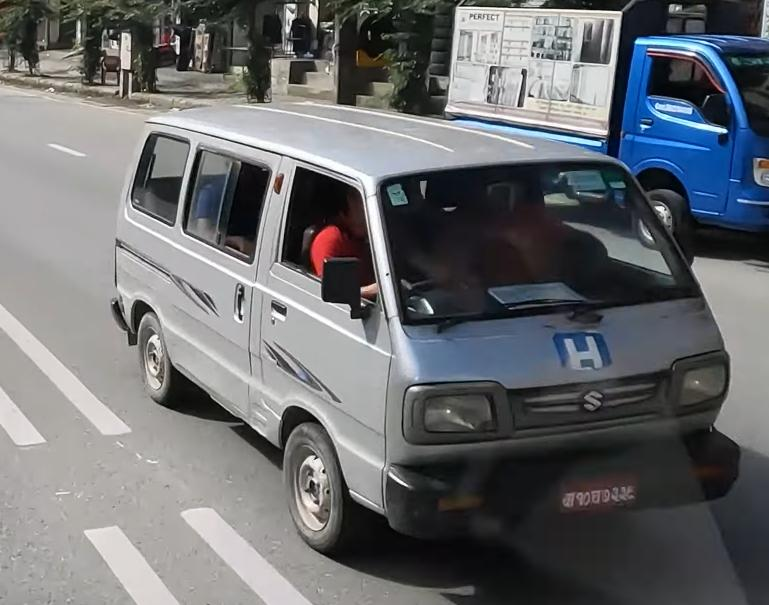van: (97, 88, 744, 567)
